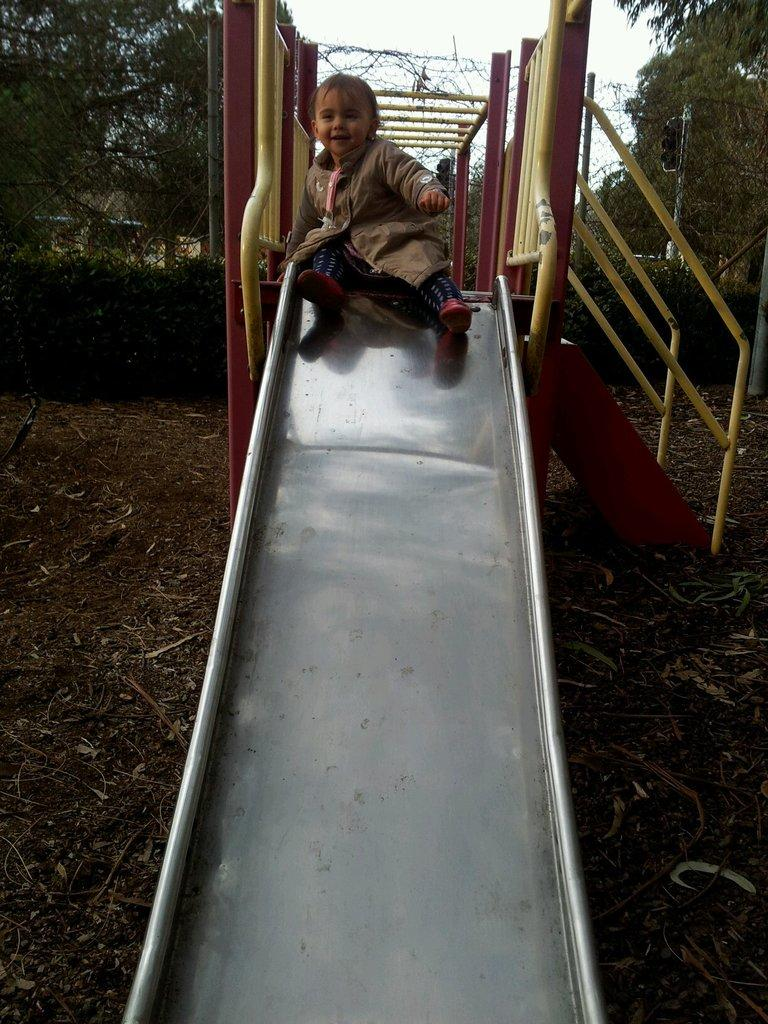Sem Máscara: (314, 84, 372, 159)
